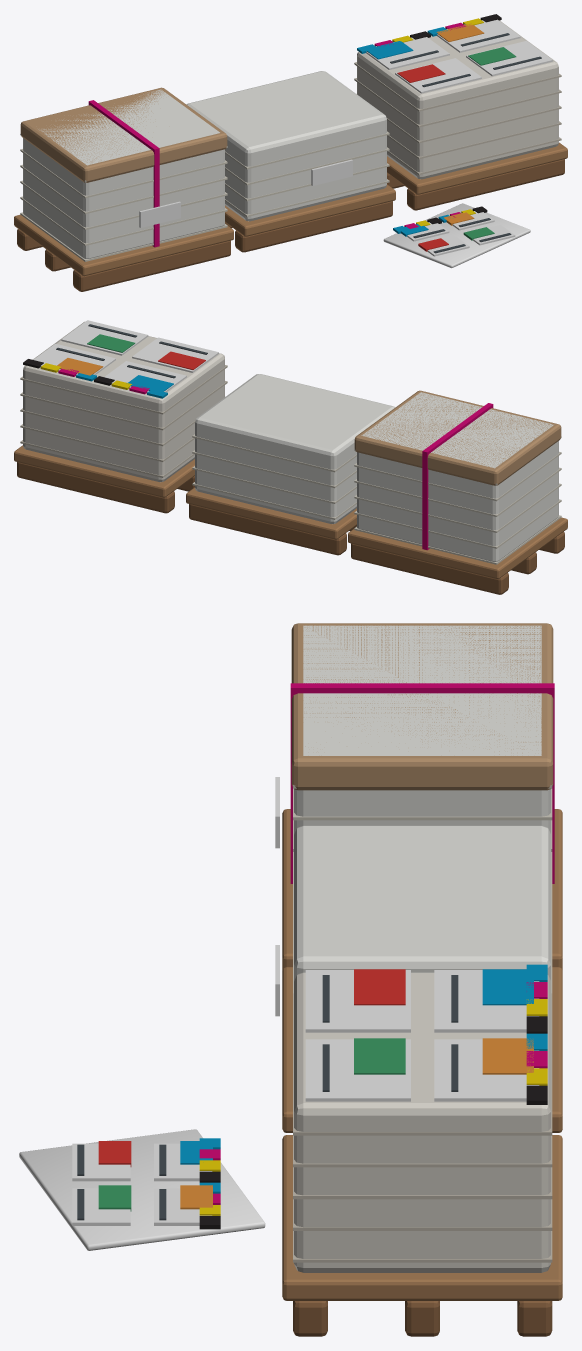
Rendered from m_sheetpile.glb.
The picture shows the model from 3 angles, top to bottom: view 1: azimuth 30°, elevation 25°; view 2: azimuth 150°, elevation 25°; view 3: azimuth 270°, elevation 25°; orthographic projection. The views are drawn at different scales.
Visible parts, largest first — view 1: m_sheetpile; view 2: m_sheetpile; view 3: m_sheetpile.
Boxes of the visible parts, <box> form: m_sheetpile: <box>14,14,567,291</box>; m_sheetpile: <box>14,320,567,594</box>; m_sheetpile: <box>19,623,562,1336</box>.
Size of the model in its own units: 0.96 by 0.2395 by 0.4654.
